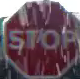Stop: (2, 0, 79, 78)
